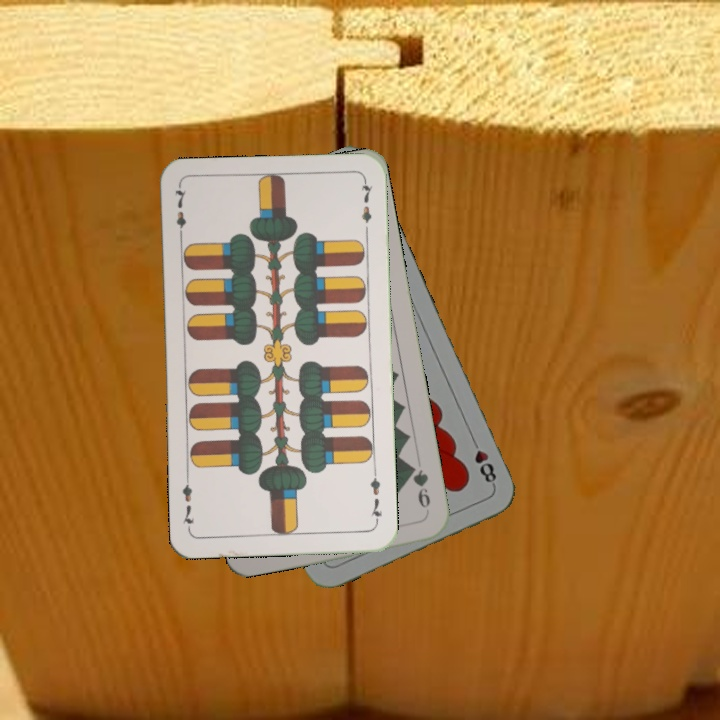E7: (366, 467, 385, 526), (171, 183, 189, 242)
G9: (405, 460, 433, 518)
H8: (467, 433, 499, 489)
